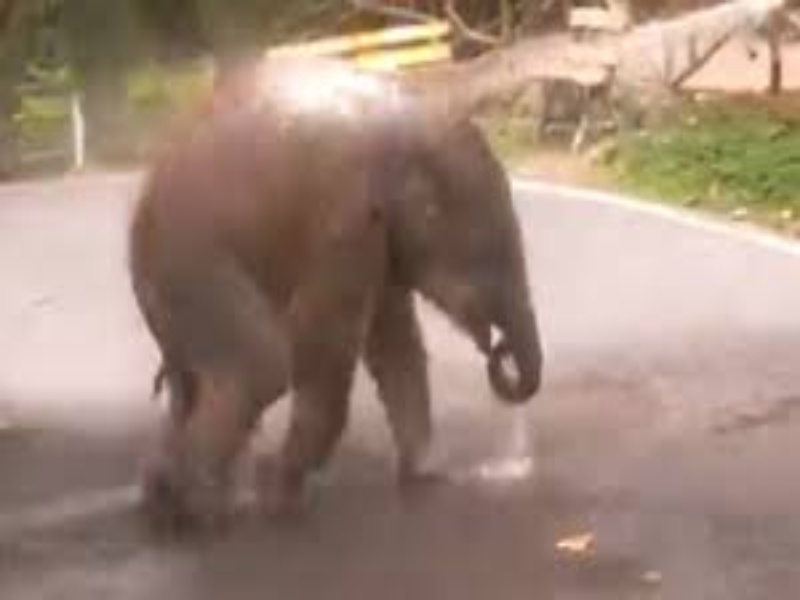elephant: (99, 60, 564, 540)
